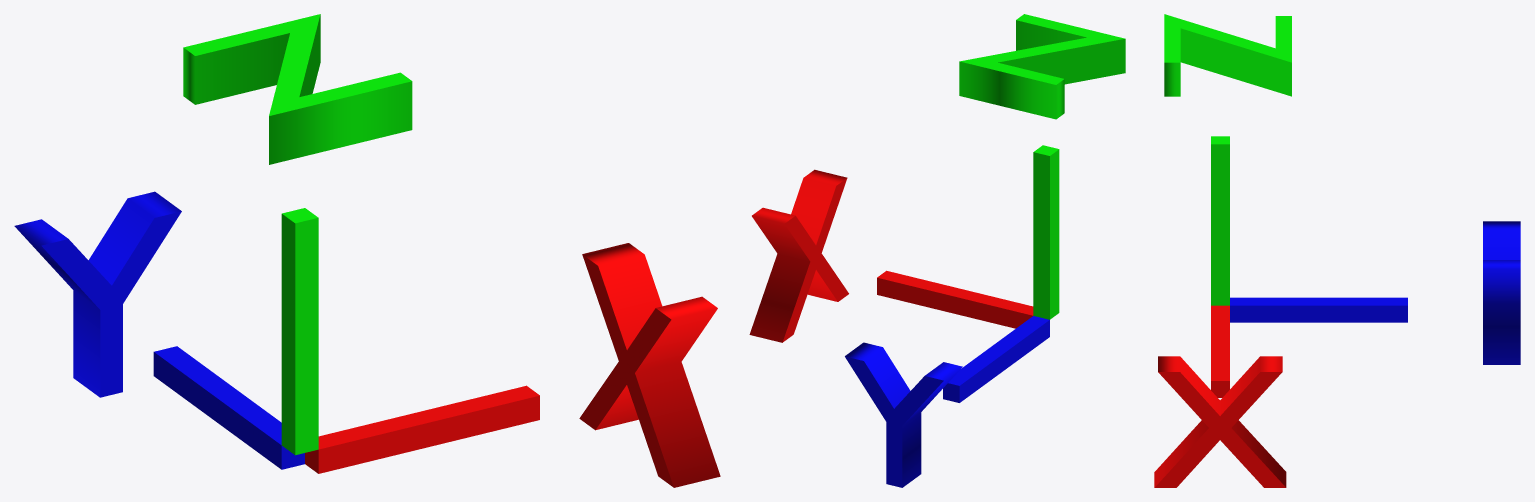
Rendered from unit_axis.obj.
3 views of the same model, side by side, from view 1: azimuth 30°, elevation 25°; view 2: azimuth 150°, elevation 25°; view 3: azimuth 270°, elevation 25° (orthographic). The views are drawn at different scales.
Parts seen in each view (by area): view 1: X_LABEL, Z_LABEL, Y_LABEL, Z_AXIS, X_AXIS, Y_AXIS; view 2: Z_LABEL, X_LABEL, Y_LABEL, Z_AXIS, X_AXIS, Y_AXIS; view 3: X_LABEL, Z_LABEL, Y_LABEL, Y_AXIS, Z_AXIS, X_AXIS.
Boxes of the visible parts, left/top/right/bottom form: X_LABEL: left=579, top=243, right=720, bottom=487; Z_LABEL: left=183, top=14, right=412, bottom=164; Y_LABEL: left=14, top=191, right=181, bottom=397; Z_AXIS: left=281, top=208, right=318, bottom=455; X_AXIS: left=305, top=385, right=539, bottom=473; Y_AXIS: left=153, top=346, right=304, bottom=469; Z_LABEL: left=959, top=14, right=1125, bottom=119; X_LABEL: left=749, top=169, right=848, bottom=342; Y_LABEL: left=845, top=342, right=962, bottom=487; Z_AXIS: left=1033, top=145, right=1059, bottom=319; X_AXIS: left=877, top=270, right=1033, bottom=328; Y_AXIS: left=943, top=316, right=1049, bottom=402; X_LABEL: left=1154, top=356, right=1286, bottom=487; Z_LABEL: left=1164, top=14, right=1291, bottom=96; Y_LABEL: left=1483, top=221, right=1520, bottom=364; Y_AXIS: left=1230, top=297, right=1407, bottom=322; Z_AXIS: left=1211, top=136, right=1229, bottom=305; X_AXIS: left=1211, top=305, right=1229, bottom=397.
Size of the model in its own units: 1.91 by 1.9 by 1.95.
